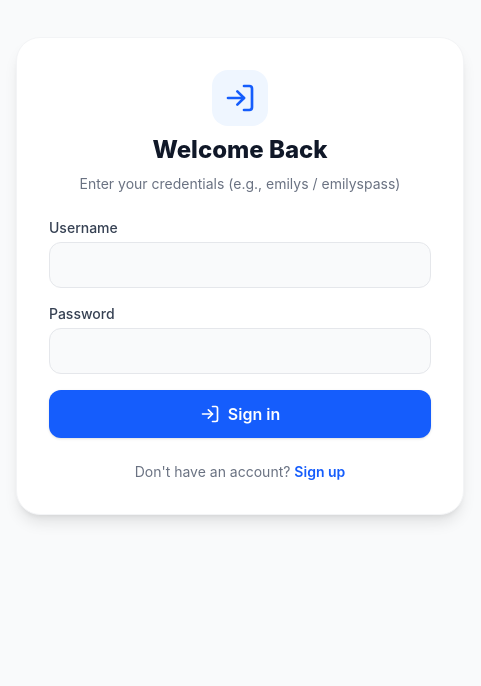
it: AuthPage › Switching modes › should hide the signup fields after switching back to sign in
Click the button "Sign up" at (320, 472), box [294,462,345,482]
(page scrolled)
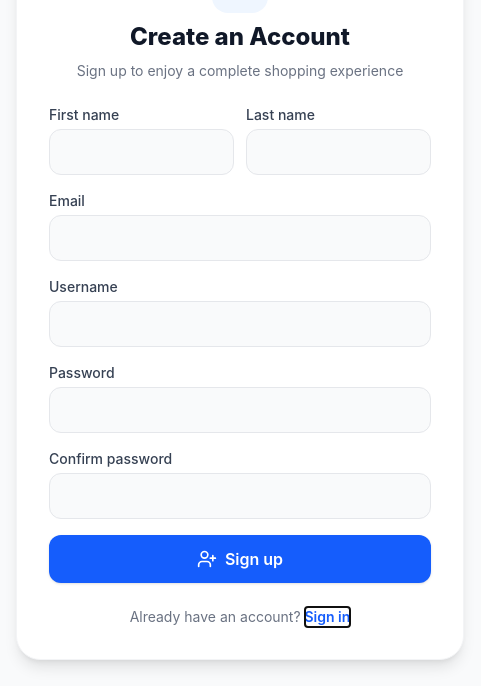
Click the button "Sign in" at (327, 617), box [304,607,350,627]
(page scrolled)
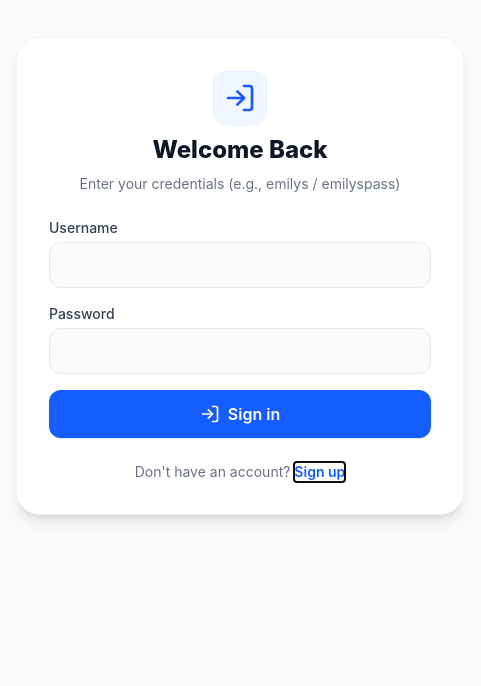
Now the heading "Welcome Back" is shown, box [152,135,328,164]
Now the label labelled "Email" is gone
Now the label labelled "Confirm password" is gone
